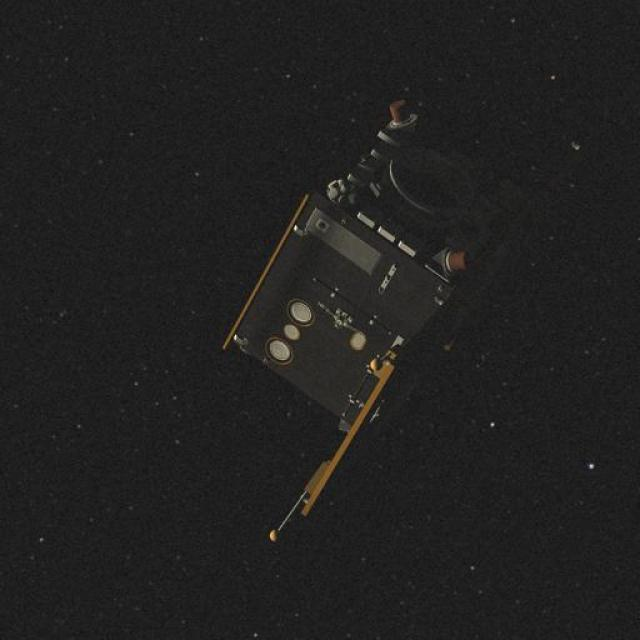proba_2: (206, 85, 558, 528)
